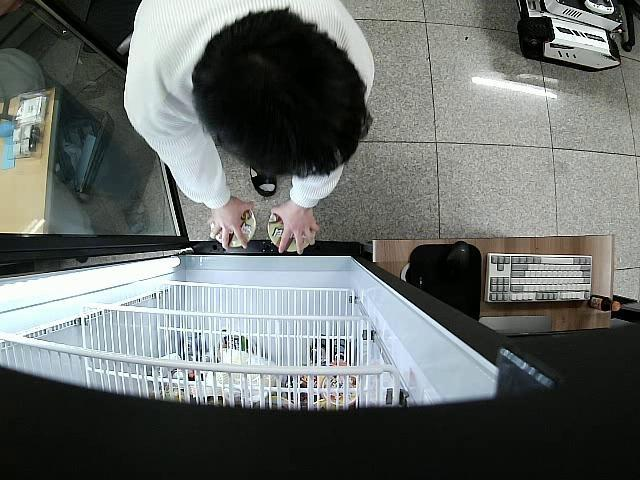03_chapagetti_L: (209, 197, 256, 246), (266, 207, 314, 250)
